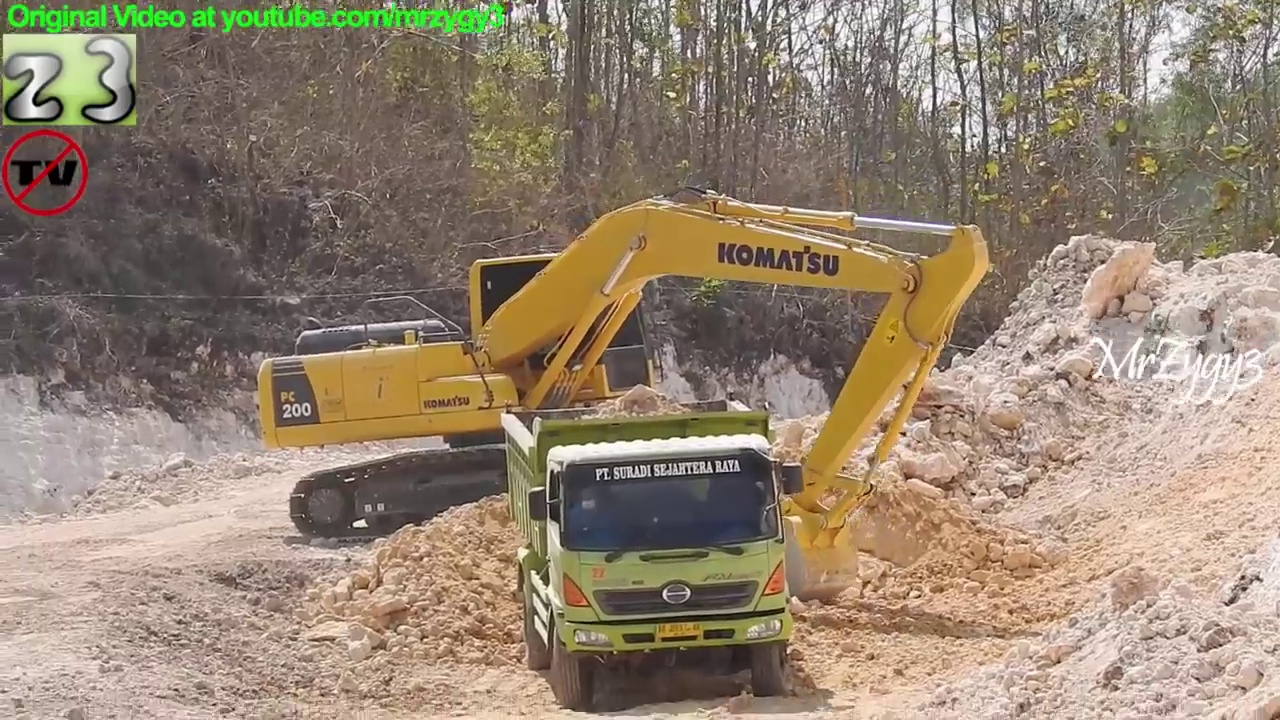excavator: (253, 182, 1000, 607)
truck: (498, 386, 810, 712)
